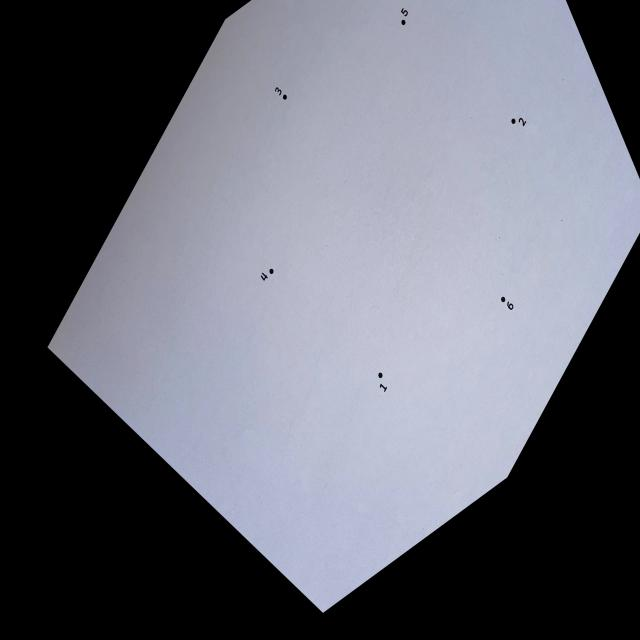Dot: (378, 372, 383, 378), (511, 118, 516, 124), (401, 20, 406, 26), (501, 296, 505, 303), (283, 94, 287, 100), (269, 268, 273, 274)
DotNumber: (378, 371, 388, 393), (500, 296, 514, 311), (260, 268, 274, 282), (275, 86, 287, 100), (511, 117, 527, 127), (401, 7, 408, 26)
Number: (518, 117, 527, 127), (506, 300, 514, 310), (400, 7, 408, 17), (380, 383, 388, 392), (275, 86, 282, 96), (261, 272, 268, 281)
